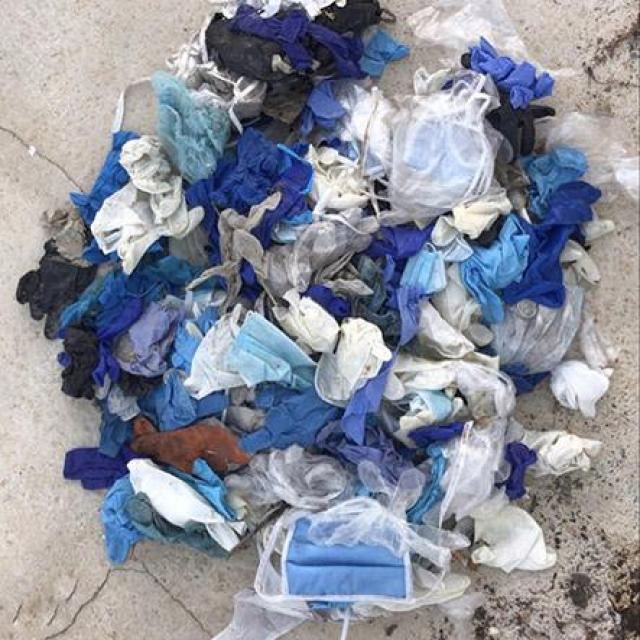non-organic waste: (261, 499, 425, 608)
